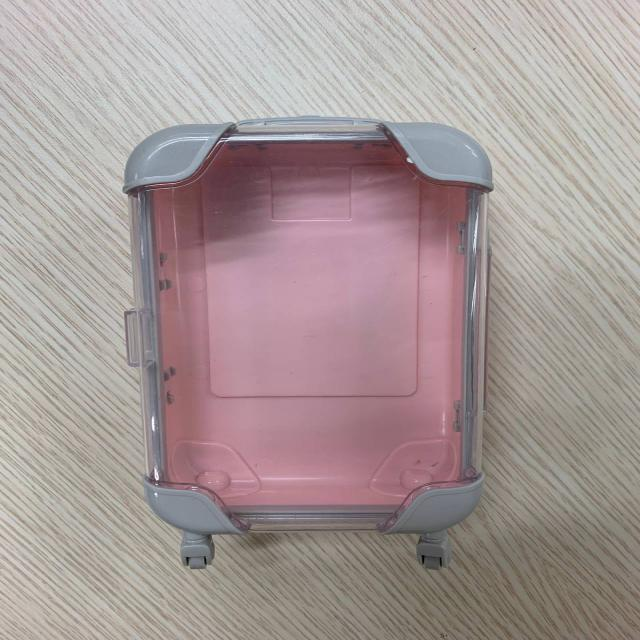luggage: (107, 101, 516, 586)
